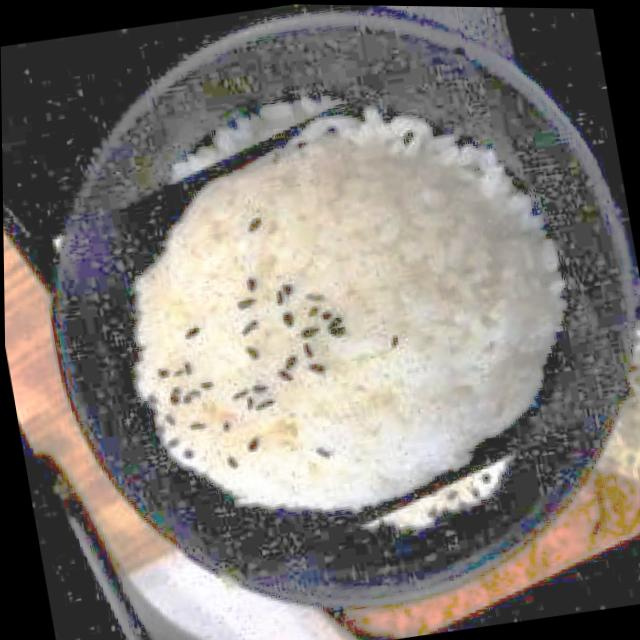rice: (101, 85, 588, 542)
